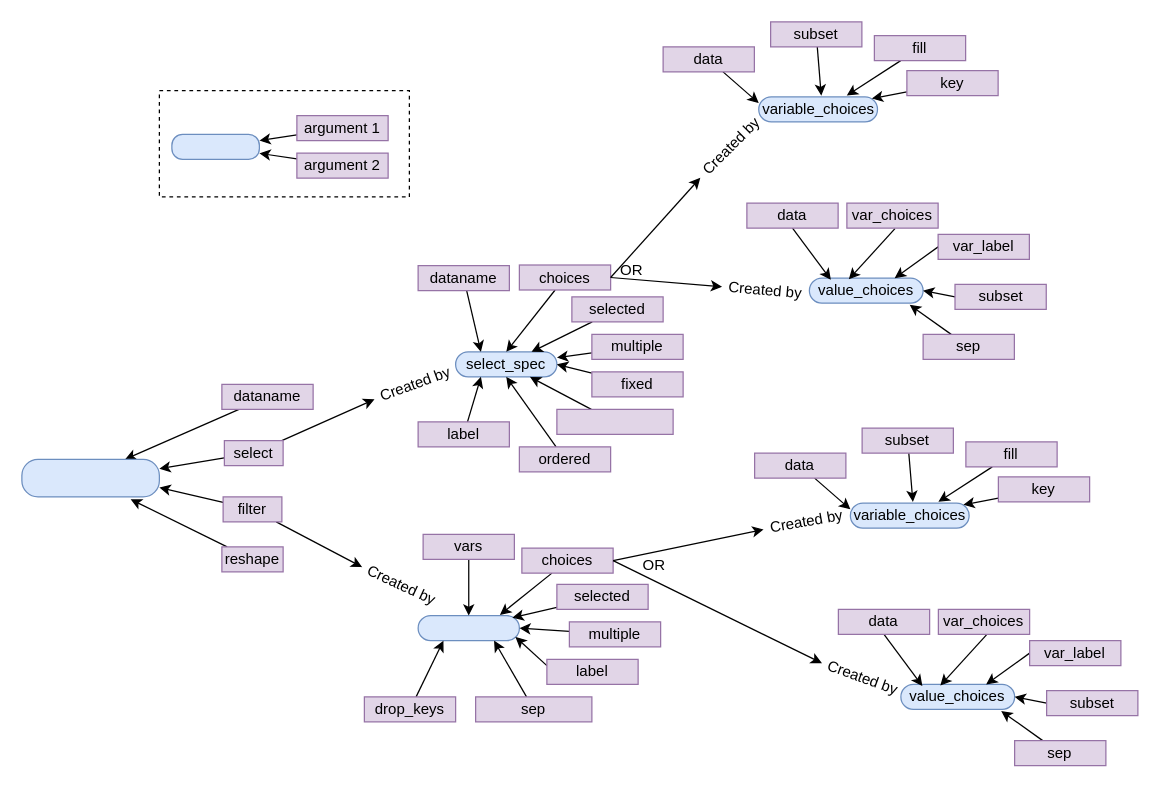
Image size: 1160x788. Some labels were removed from this diagram. Each missing label, with the centre of its shape:
always_selected: (614,421)
data_extract_spec: (90,477)
filter_spec: (468,627)
function: (215,146)
